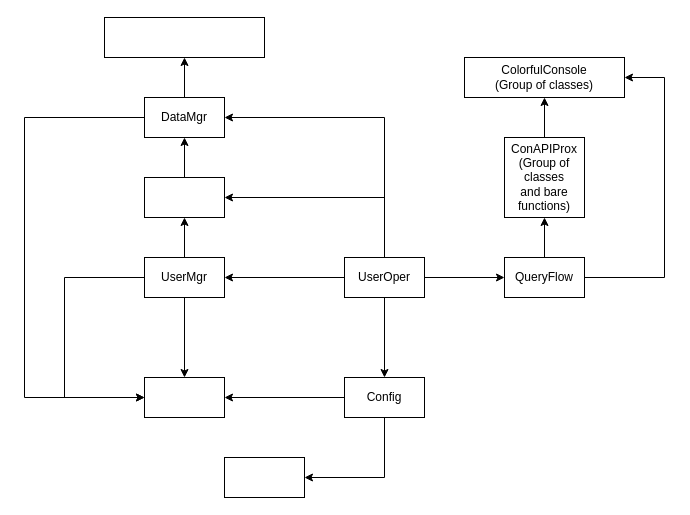
The diagram is 690 pixels wide and 515 high, and some of its shapes have lost their labels. Each missing label, with the centre of its shape:
ColorWithJson (functions): the point at 264,477
FileIO (functions): the point at 184,397
PolyFuncData: the point at 184,37
User: the point at 184,197
